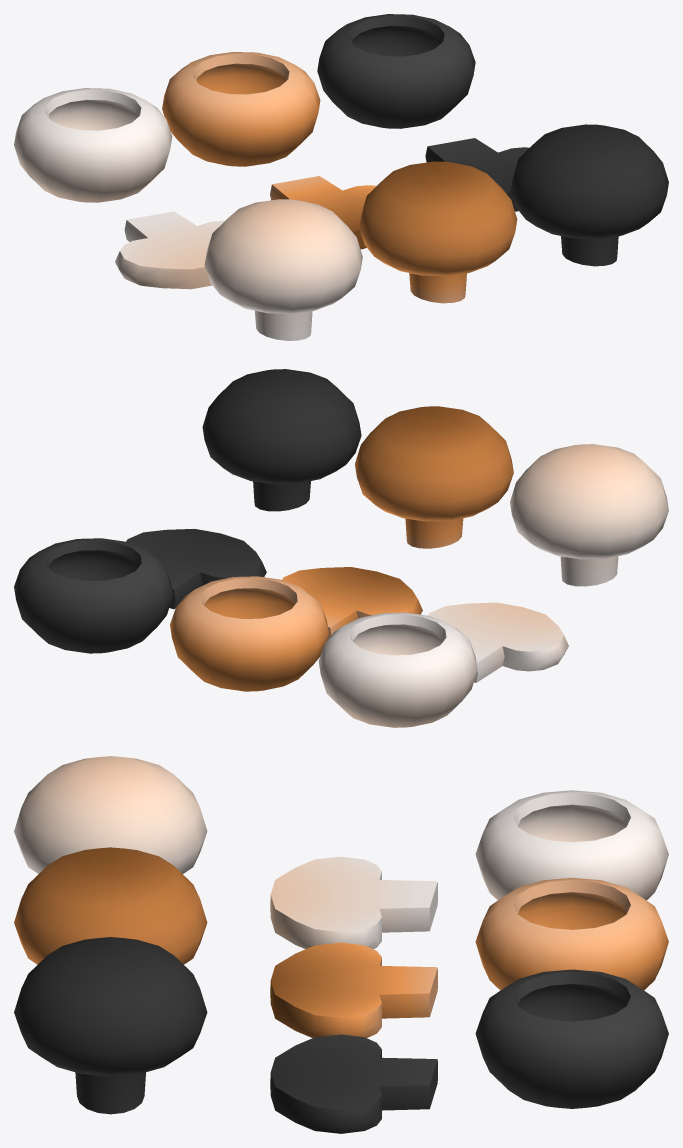
File: mushroom.fbx
3 views of the same model, one above another, from view 1: azimuth 30°, elevation 25°; view 2: azimuth 150°, elevation 25°; view 3: azimuth 270°, elevation 25° (orthographic). The views are drawn at different scales.
Parts seen in each view (by area): view 1: mushroom_Cooked, mushroom_Raw, mushroom_Burnt, mushroom_Hollow_Raw, mushroom_Hollow_Burnt, mushroom_Hollow_Cooked, mushroom_Sliced_Raw, mushroom_Sliced_Cooked, mushroom_Sliced_Burnt; view 2: mushroom_Burnt, mushroom_Raw, mushroom_Cooked, mushroom_Hollow_Burnt, mushroom_Hollow_Raw, mushroom_Hollow_Cooked, mushroom_Sliced_Raw, mushroom_Sliced_Burnt, mushroom_Sliced_Cooked; view 3: mushroom_Burnt, mushroom_Hollow_Burnt, mushroom_Hollow_Cooked, mushroom_Raw, mushroom_Cooked, mushroom_Hollow_Raw, mushroom_Sliced_Burnt, mushroom_Sliced_Cooked, mushroom_Sliced_Raw.
Part boxes in pixels (bbox=[...]): mushroom_Cooked: bbox=[359, 161, 517, 303]; mushroom_Raw: bbox=[204, 199, 362, 340]; mushroom_Burnt: bbox=[510, 124, 668, 266]; mushroom_Hollow_Raw: bbox=[14, 88, 172, 202]; mushroom_Hollow_Burnt: bbox=[317, 14, 475, 128]; mushroom_Hollow_Cooked: bbox=[162, 52, 320, 166]; mushroom_Sliced_Raw: bbox=[115, 211, 224, 289]; mushroom_Sliced_Cooked: bbox=[270, 176, 376, 249]; mushroom_Sliced_Burnt: bbox=[425, 138, 529, 211]; mushroom_Burnt: bbox=[202, 369, 361, 511]; mushroom_Raw: bbox=[510, 444, 668, 586]; mushroom_Cooked: bbox=[355, 406, 513, 548]; mushroom_Hollow_Burnt: bbox=[14, 538, 172, 653]; mushroom_Hollow_Raw: bbox=[318, 612, 477, 727]; mushroom_Hollow_Cooked: bbox=[170, 576, 328, 691]; mushroom_Sliced_Raw: bbox=[428, 602, 568, 682]; mushroom_Sliced_Burnt: bbox=[126, 528, 266, 609]; mushroom_Sliced_Cooked: bbox=[282, 567, 422, 640]; mushroom_Burnt: bbox=[14, 937, 207, 1114]; mushroom_Hollow_Burnt: bbox=[475, 969, 668, 1108]; mushroom_Hollow_Cooked: bbox=[475, 877, 668, 990]; mushroom_Raw: bbox=[14, 756, 207, 873]; mushroom_Cooked: bbox=[14, 847, 207, 964]; mushroom_Hollow_Raw: bbox=[475, 790, 668, 900]; mushroom_Sliced_Burnt: bbox=[270, 1034, 437, 1133]; mushroom_Sliced_Cooked: bbox=[270, 942, 437, 1037]; mushroom_Sliced_Raw: bbox=[270, 856, 437, 949].
Bounding box in the file's own units: 2.57 × 2.71 × 0.6933.
